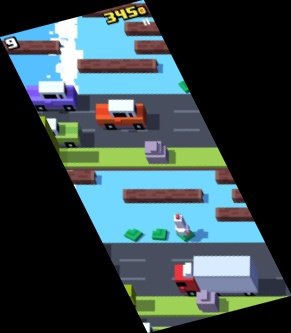car: (25, 81, 78, 113), (96, 99, 146, 131), (30, 117, 82, 145)
duck: (174, 215, 190, 236)
lilypad: (177, 77, 193, 94), (177, 227, 193, 241), (126, 230, 143, 243), (153, 230, 170, 240)
log: (83, 2, 159, 18), (122, 189, 203, 203), (77, 59, 158, 72), (1, 40, 60, 53), (215, 168, 259, 184), (134, 41, 187, 53), (126, 23, 179, 35), (217, 209, 262, 221), (231, 188, 264, 203), (53, 171, 97, 182)
rock: (195, 289, 218, 313), (145, 141, 168, 164)
tree: (115, 284, 139, 310)
truck: (177, 256, 257, 296)
water: (64, 170, 266, 242)
